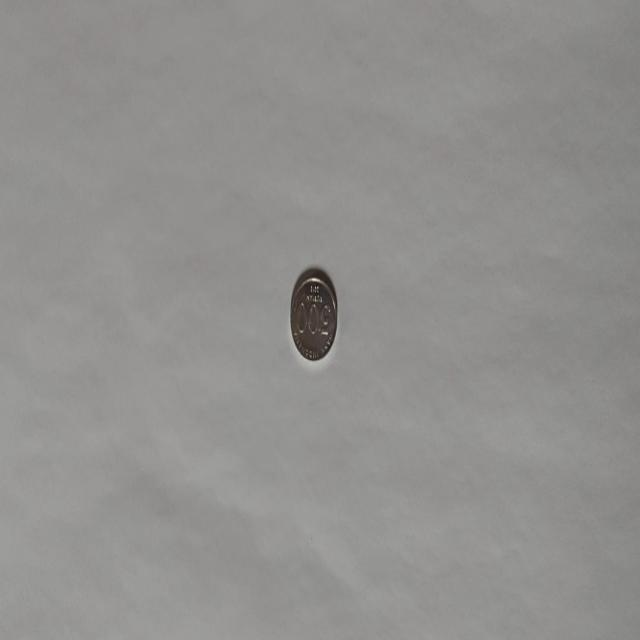lima ratus rupiah: (289, 266, 338, 362)
